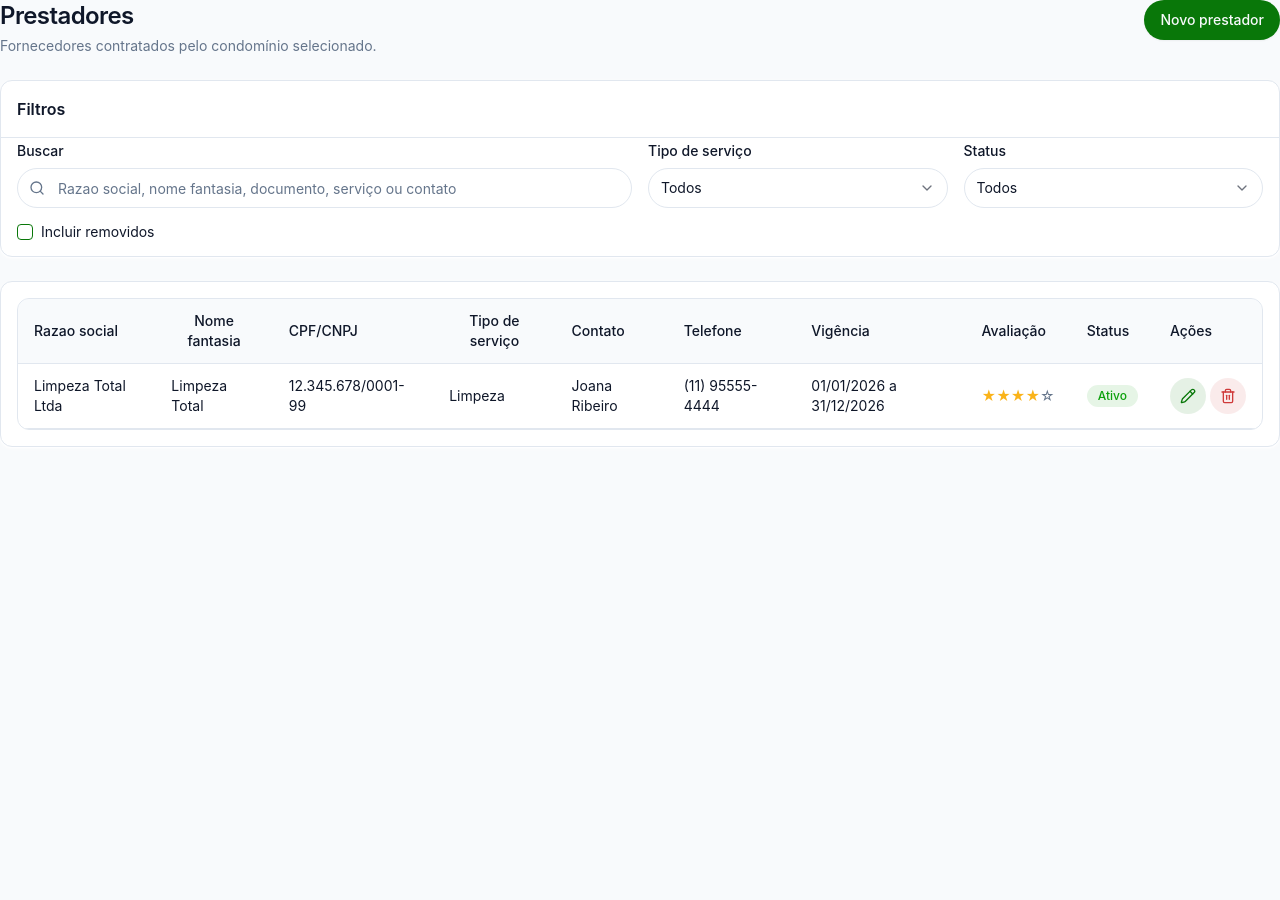
Test: Exclusao e restauração de prestadores › excluir pede confirmação antes de remover
Expected: the text "Limpeza Total Ltda" is shown, [34,376,139,416]
Click the button named "Excluir Limpeza Total Ltda" at (1228, 396), box [1210,378,1246,414]
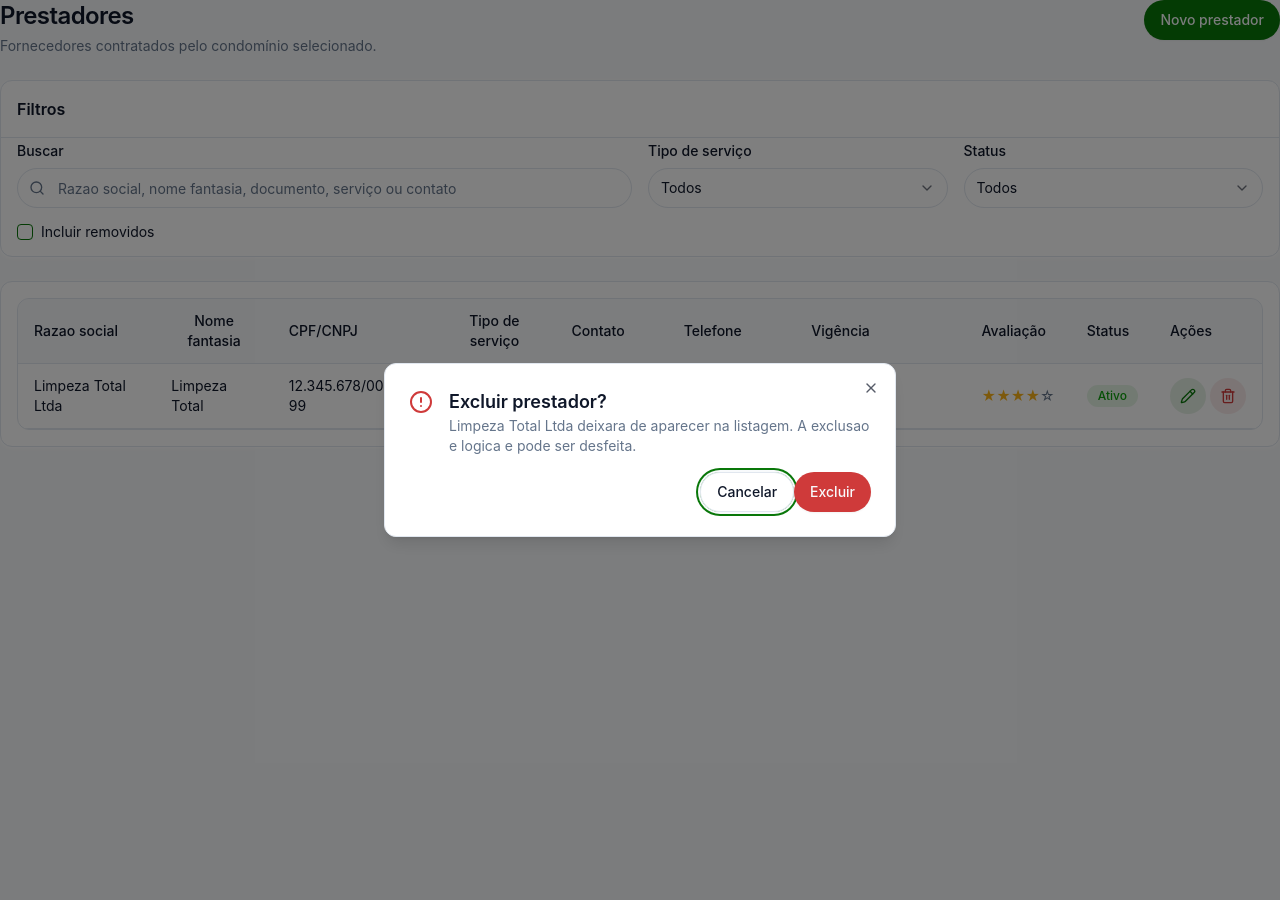
Now the heading "Excluir prestador?" is shown, box [449,391,607,412]
Click the button "Excluir" at (833, 492), box [794,472,871,512]
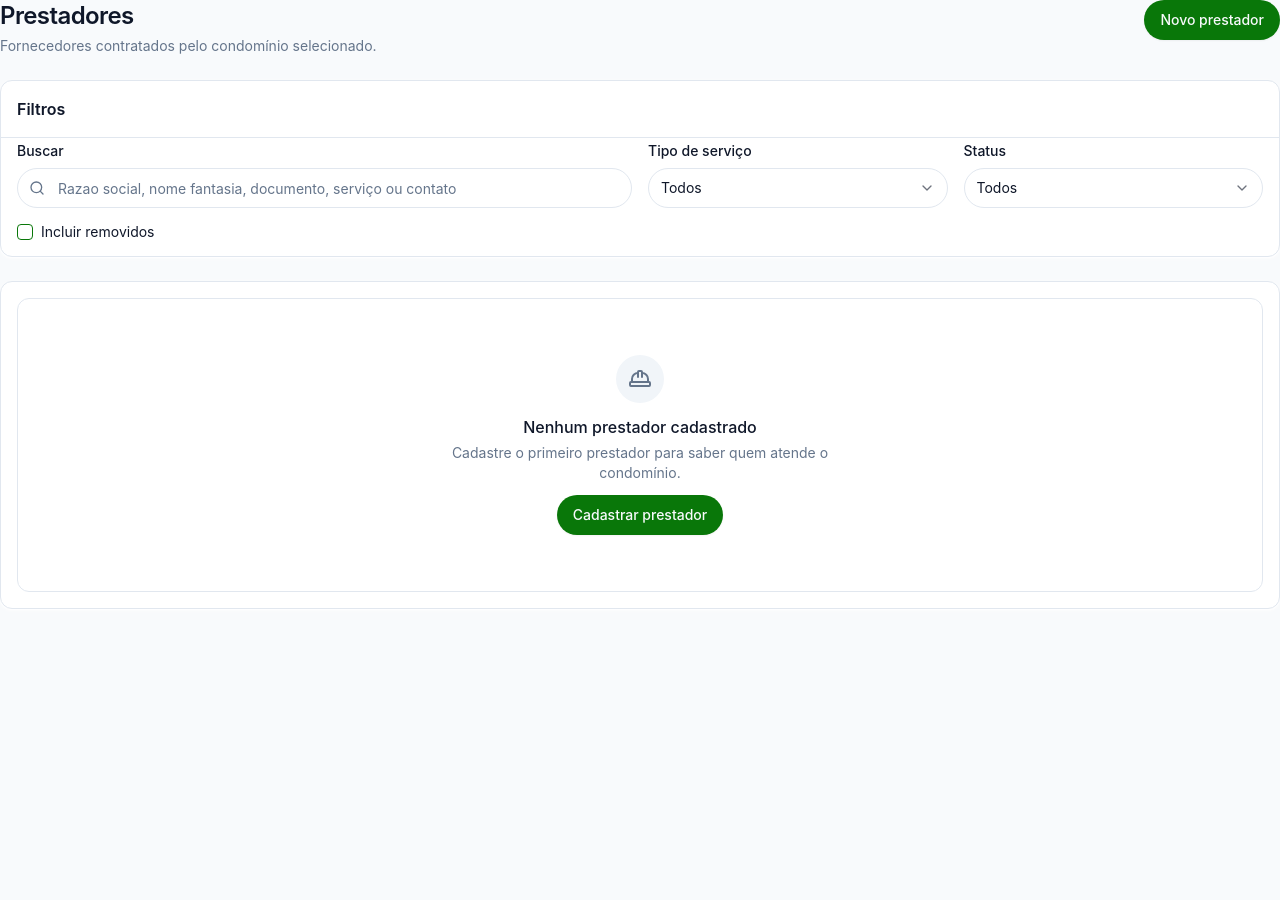
Now the text "Limpeza Total Ltda" is gone
